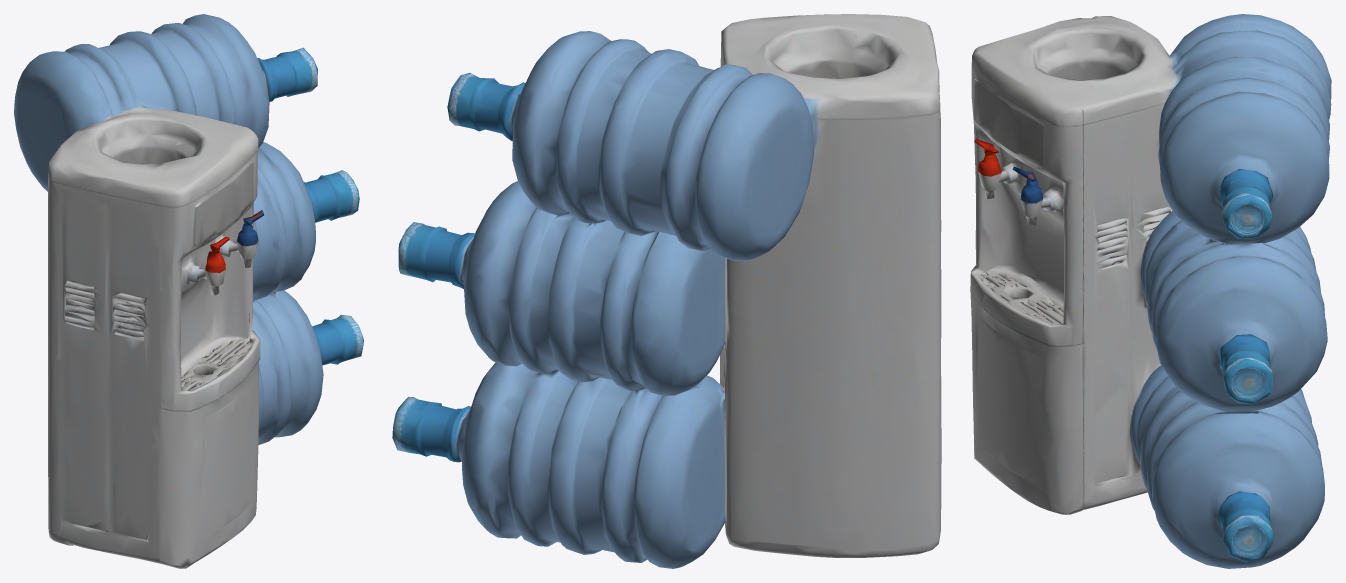
File: waterdispenser.glb
3 views of the same model, side by side, from view 1: azimuth 30°, elevation 25°; view 2: azimuth 150°, elevation 25°; view 3: azimuth 270°, elevation 25° (orthographic). The views are drawn at different scales.
Visible parts, largest first — view 1: tripo_node_8a0b2516-8f93-4233-8a04-08691e4daefb; view 2: tripo_node_8a0b2516-8f93-4233-8a04-08691e4daefb; view 3: tripo_node_8a0b2516-8f93-4233-8a04-08691e4daefb.
Part boxes in pixels (<box>): tripo_node_8a0b2516-8f93-4233-8a04-08691e4daefb: <box>14,14,363,568</box>; tripo_node_8a0b2516-8f93-4233-8a04-08691e4daefb: <box>392,14,941,568</box>; tripo_node_8a0b2516-8f93-4233-8a04-08691e4daefb: <box>970,14,1331,568</box>.
Bounding box in the file's own units: 0.9318 × 1 × 0.7249.
1 material, 1 textured.
